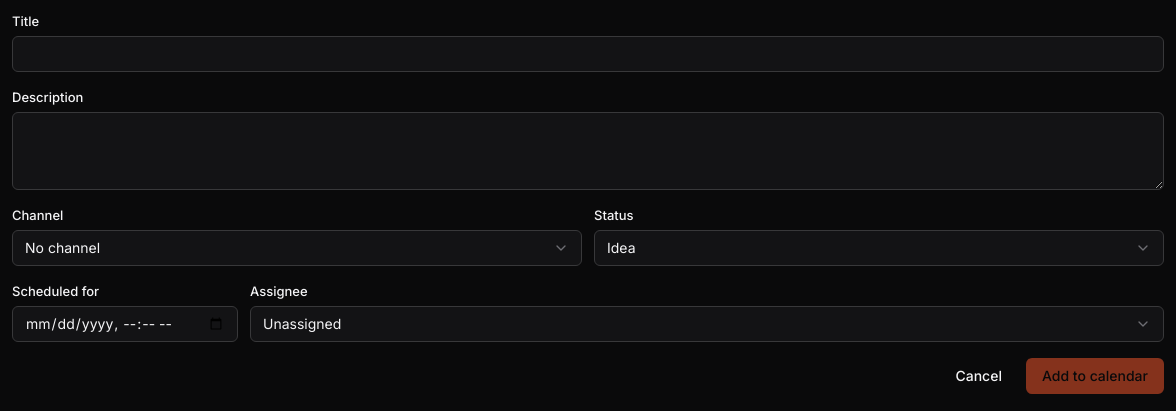
Scenario: EntryForm › disables submit until a title is entered
The width and height of the screenshot is (1176, 411).
Expected: the button "Add to calendar" is disabled, [1026,358,1164,394]
In the field labelled "Title": coordinates (588, 54) [12,36,1164,72], type "New video"
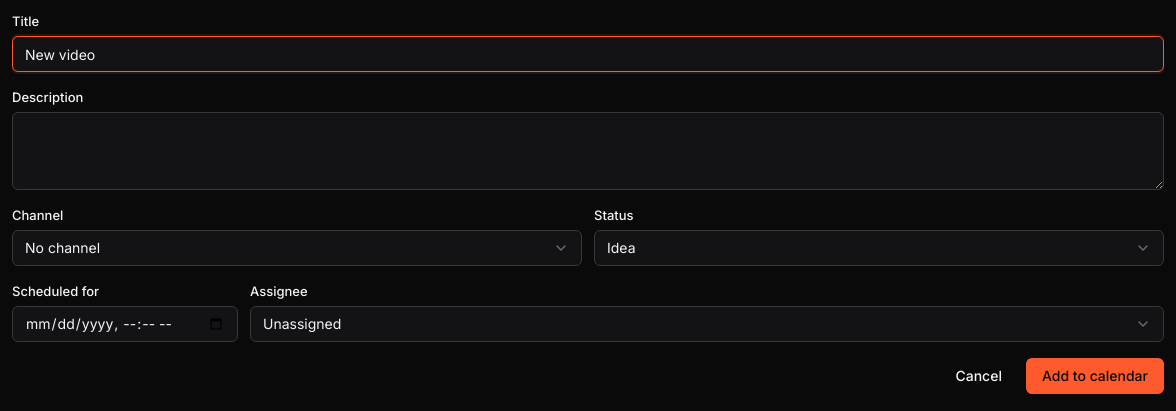
Expected: the button "Add to calendar" is enabled, [1026,358,1164,394]
